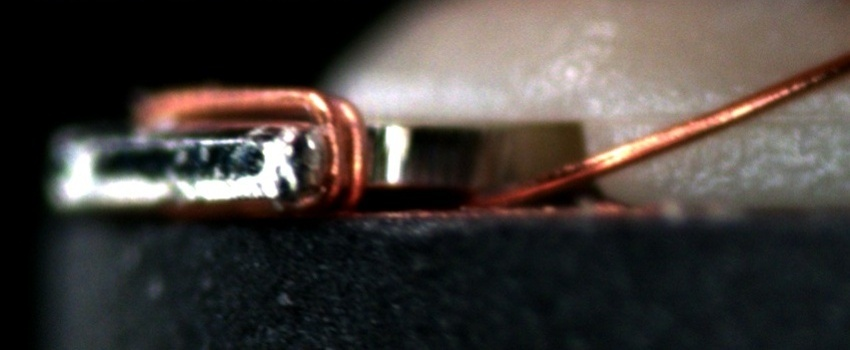DL: (623, 83, 849, 141)
TE: (127, 86, 377, 218)
